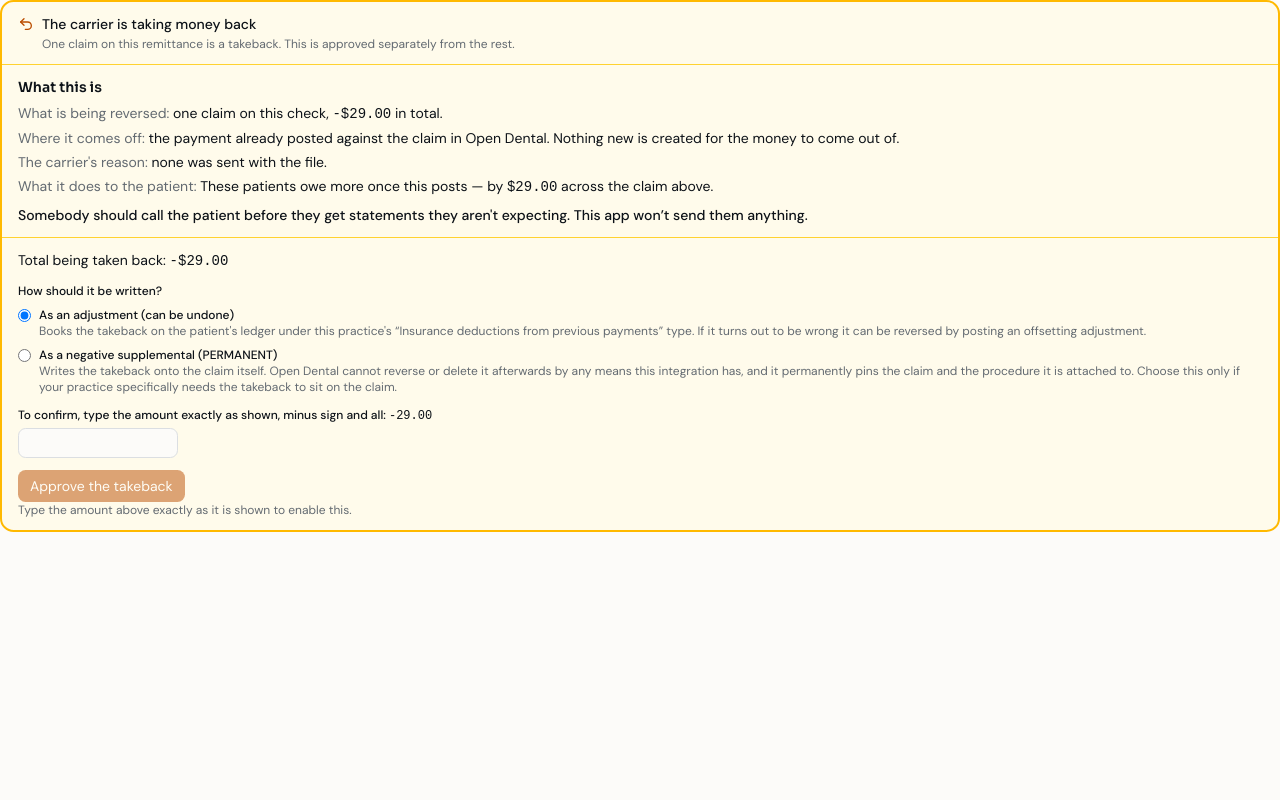
W-4 · the permanent path cannot become selected by a single click › keeps the adjustment selected and asks, with decline focused
Step 1. Click the 2nd radio button → point(24, 356), box [18,349,31,362]
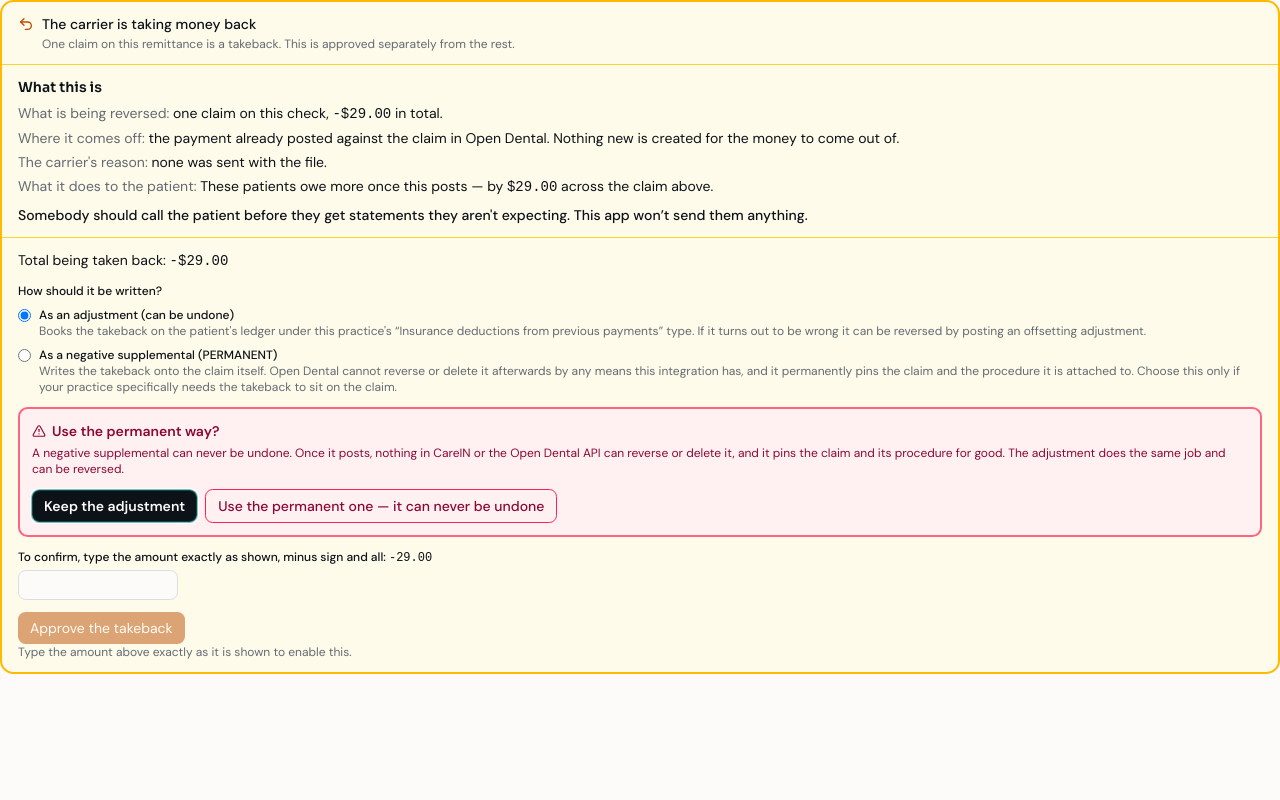
Now the button with test id "recoupment-permanent-yes" reads "Use the permanent one — it can never be undone", box [205,489,557,523]
